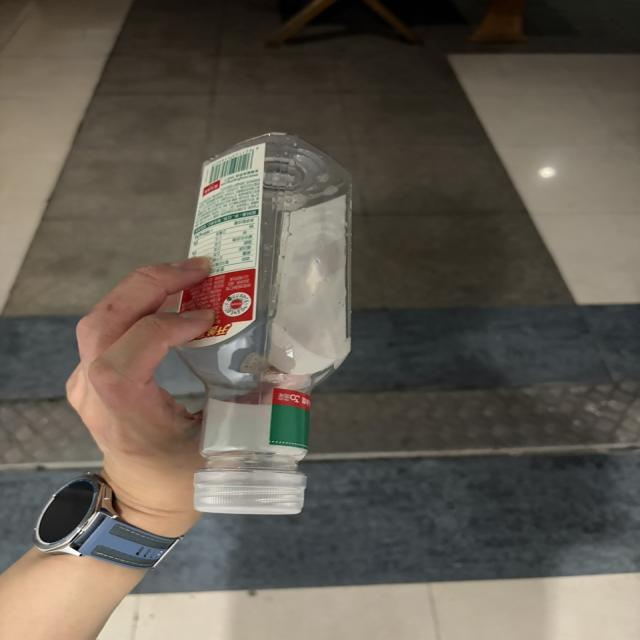empty: (177, 133, 351, 514)
